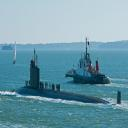submarine: (16, 67, 122, 105)
